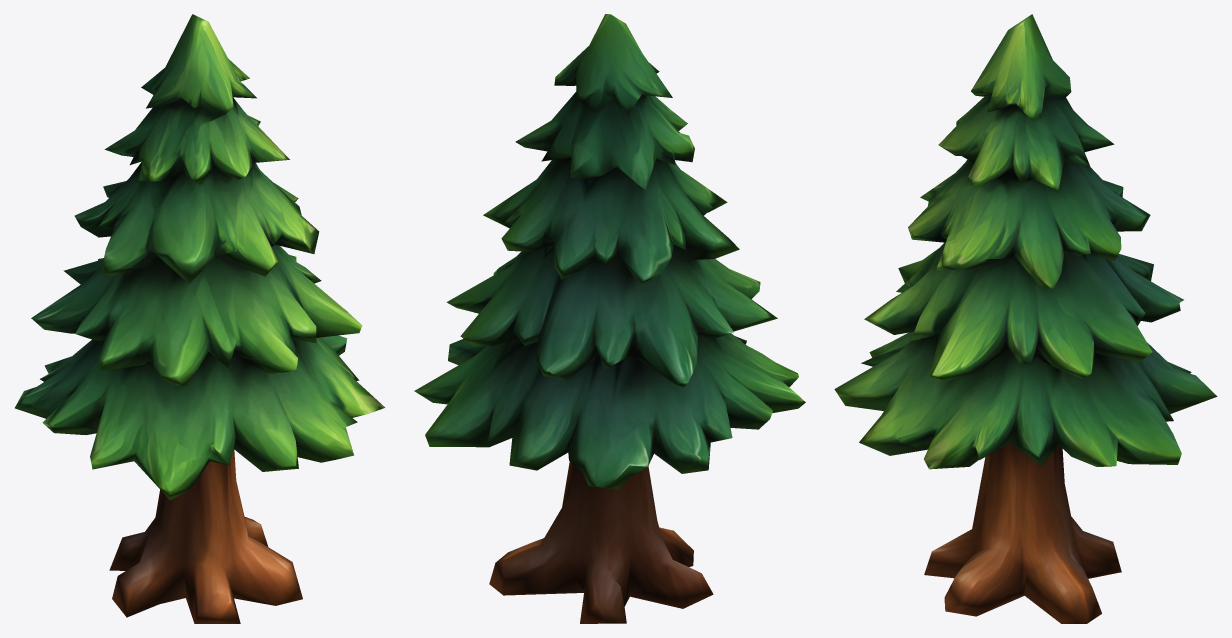
File: W_Tree_A_raw.glb
3 renders of one model, left to right at view 1: azimuth 30°, elevation 25°; view 2: azimuth 150°, elevation 25°; view 3: azimuth 270°, elevation 25°, orthographic.
Parts seen in each view (by area): view 1: tripo_node_c09a0edc-5f11-4c77-b46b-25a09c2c372e; view 2: tripo_node_c09a0edc-5f11-4c77-b46b-25a09c2c372e; view 3: tripo_node_c09a0edc-5f11-4c77-b46b-25a09c2c372e.
Part boxes in pixels (left/top/right/bottom): tripo_node_c09a0edc-5f11-4c77-b46b-25a09c2c372e: left=15, top=14, right=385, bottom=623; tripo_node_c09a0edc-5f11-4c77-b46b-25a09c2c372e: left=414, top=14, right=805, bottom=623; tripo_node_c09a0edc-5f11-4c77-b46b-25a09c2c372e: left=834, top=14, right=1217, bottom=623.
Size of the model in its own units: 0.5724 by 1 by 0.6143.
Materials: 1 (1 with a texture image).
